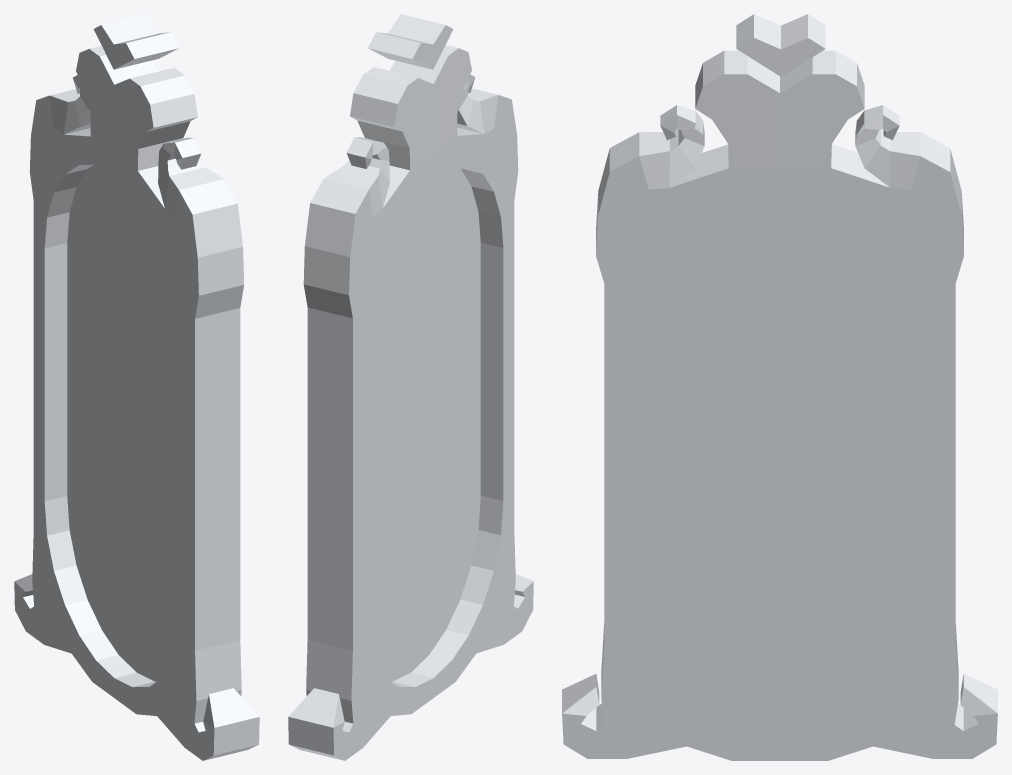
File: fgr_fur_mirror.fbx
3 views of the same model, side by side, from view 1: azimuth 30°, elevation 25°; view 2: azimuth 150°, elevation 25°; view 3: azimuth 270°, elevation 25° (orthographic). The views are drawn at different scales.
Parts seen in each view (by area): view 1: fgr_fur_mirror; view 2: fgr_fur_mirror; view 3: fgr_fur_mirror.
Boxes of the visible parts, box(x1,y1,x2,y2) form: fgr_fur_mirror: box(14, 14, 259, 760); fgr_fur_mirror: box(288, 14, 533, 760); fgr_fur_mirror: box(562, 14, 997, 760).
Bounding box in the file's own units: 185 × 2588 × 1415.
1 material, 1 textured.
